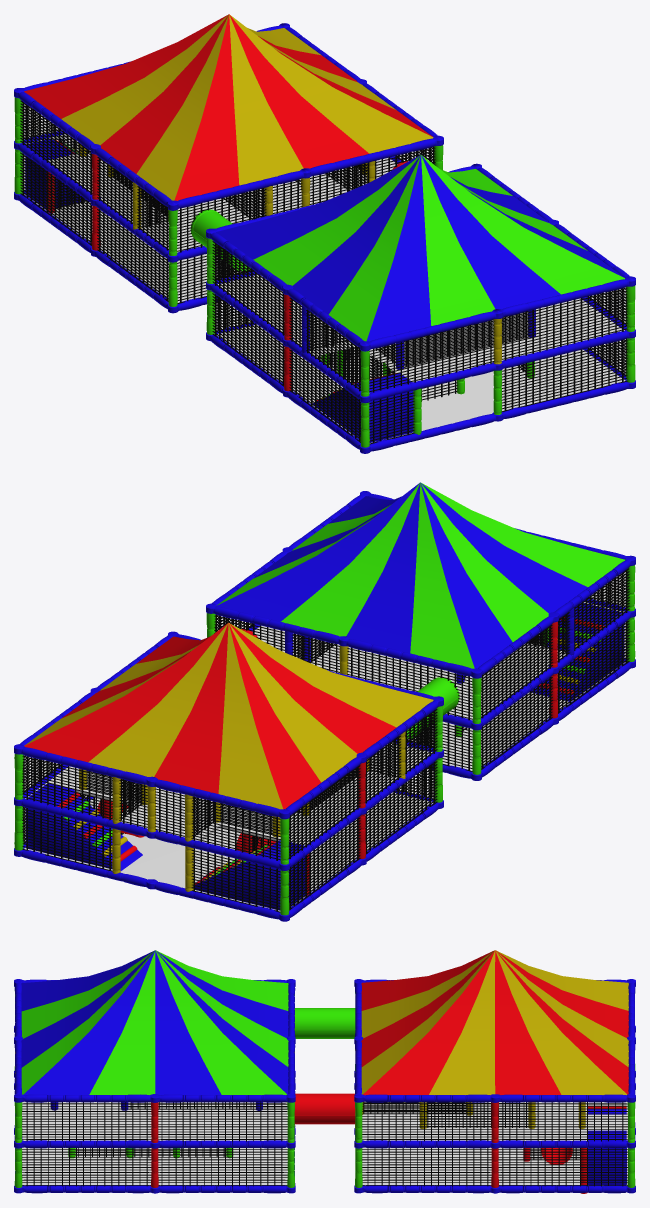
File: PatioDeJuegos.fbx
3 renders of one model, top to bottom at view 1: azimuth 30°, elevation 25°; view 2: azimuth 150°, elevation 25°; view 3: azimuth 270°, elevation 25°, orthographic. The views are drawn at different scales.
Visible parts, largest first — view 1: Cube.114, Cube.113, Cube.076, Cube.075, Cylinder.035, Cylinder.023, Cylinder.032, Cube.065, Cylinder.034, Cube.105, Cube.106, Cube.108 (+27 smaller); view 2: Cube.114, Cube.113, Cylinder.035, Cylinder.023, Cube.056, Cube.065, Cube.075, Cylinder.021, Cube.087, Cylinder.013, Cube.062, Cube.061 (+27 smaller); view 3: Cube.114, Cube.113, Cube.075, Cube.076, Cube.056, Cube.065, Cylinder.035, Cylinder.023, Cube.079, Cube.068, Cube.080, Cube.070 (+21 smaller).
Boxes of the visible parts, x1,y1,x2,y2 form: Cube.114: (24,14,433,200); Cube.113: (216,155,625,341); Cube.076: (217,324,625,443); Cube.075: (218,275,624,393); Cylinder.035: (206,163,635,351); Cylinder.023: (14,23,443,210); Cylinder.032: (206,271,635,403); Cube.065: (25,134,397,252); Cylinder.034: (206,322,635,453); Cube.105: (369,320,494,392); Cube.106: (501,288,627,360); Cube.108: (501,340,627,411); Cube.114: (24,622,433,809); Cube.113: (216,482,625,668); Cylinder.035: (206,491,635,678); Cylinder.023: (14,631,443,819); Cube.056: (24,792,432,911); Cube.065: (25,742,432,845); Cube.075: (254,602,624,720); Cylinder.021: (14,739,443,870); Cube.087: (26,783,142,870); Cylinder.013: (14,790,443,921); Cube.062: (155,788,280,860); Cube.061: (22,756,147,828); Cube.114: (361,950,628,1095); Cube.113: (21,950,288,1095); Cube.075: (22,1101,287,1140); Cube.076: (22,1147,287,1185); Cube.056: (362,1114,627,1185); Cube.065: (362,1101,627,1140); Cylinder.035: (14,979,295,1102); Cylinder.023: (354,979,635,1102); Cube.079: (498,1102,627,1141); Cube.068: (158,1102,287,1141); Cube.080: (362,1102,491,1141); Cube.070: (22,1102,151,1141).
Size of the model in its own units: 2662 by 1955 by 5894.
